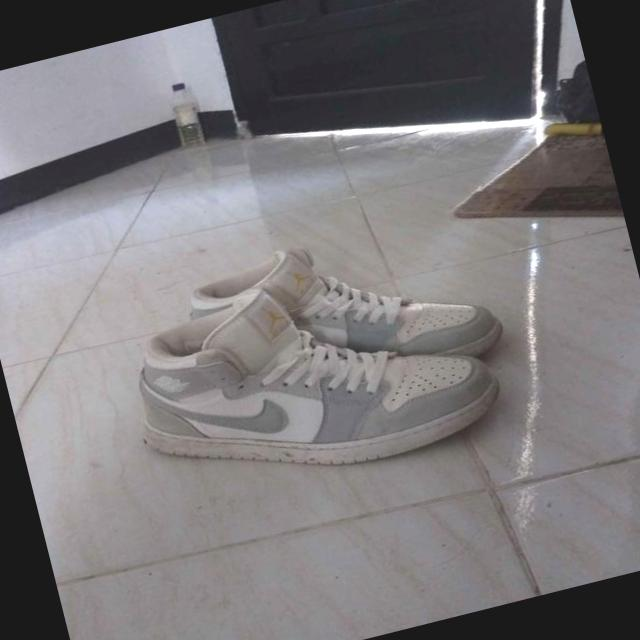nike_fake_jordan: (110, 235, 510, 518), (180, 200, 513, 422)
